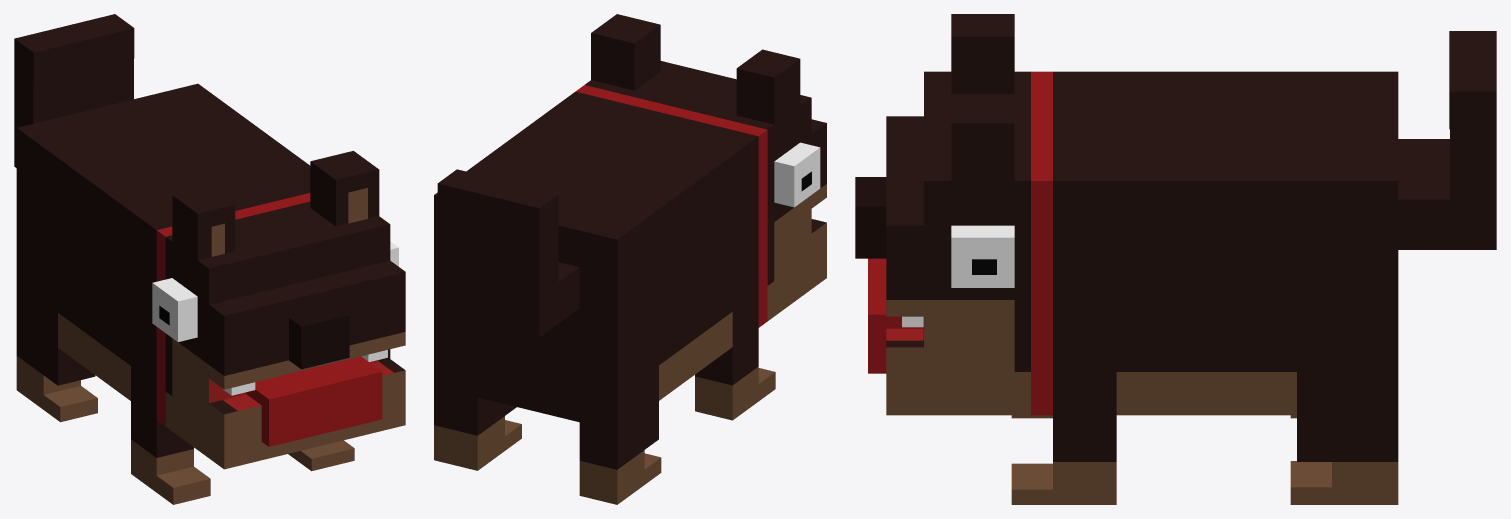
Rendered from Dog.fbx.
The picture shows the model from 3 angles, left to right: view 1: azimuth 30°, elevation 25°; view 2: azimuth 150°, elevation 25°; view 3: azimuth 270°, elevation 25°; orthographic projection. The views are drawn at different scales.
Parts seen in each view (by area): view 1: pasted__pasted__pCube1; view 2: pasted__pasted__pCube1; view 3: pasted__pasted__pCube1.
Boxes of the visible parts, bbox=[...] form: pasted__pasted__pCube1: bbox=[14, 14, 405, 504]; pasted__pasted__pCube1: bbox=[434, 14, 826, 504]; pasted__pasted__pCube1: bbox=[855, 14, 1496, 504].
Bounding box in the file's own units: 12.3 × 25.03 × 16.67.
